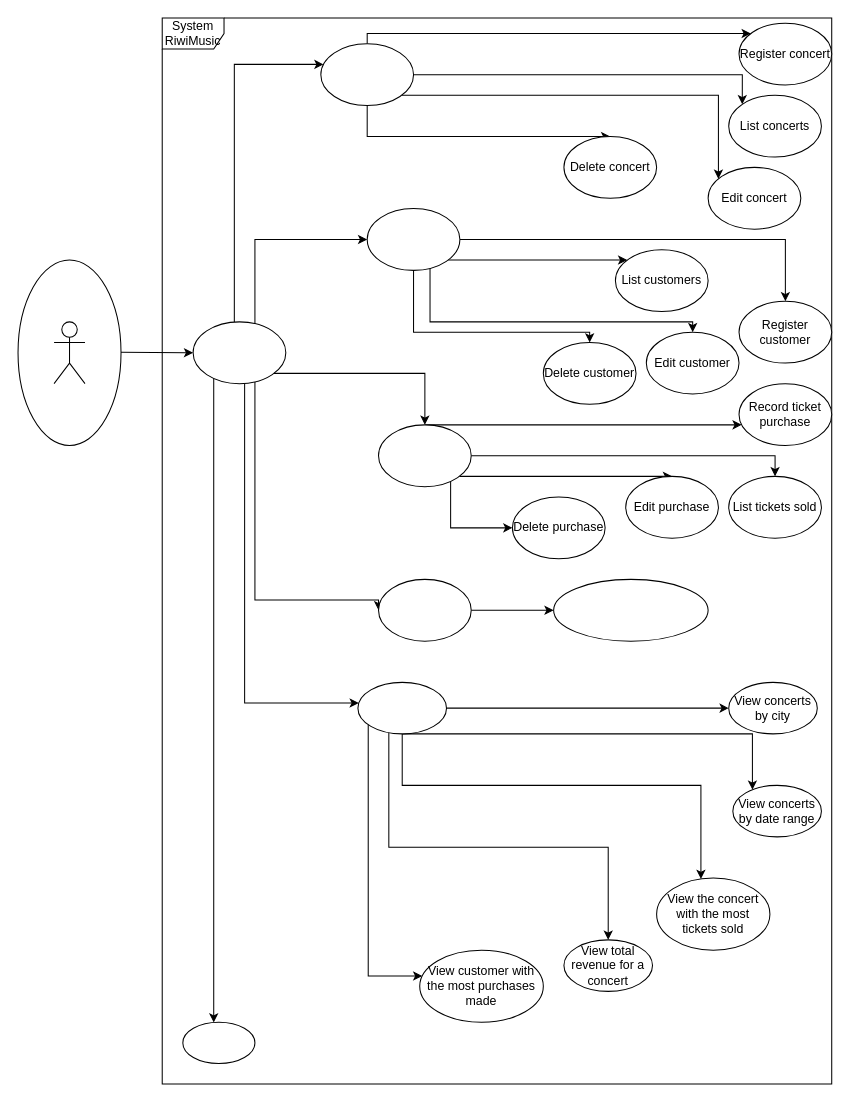
This 850x1102 diagram has some shape labels left out. Each missing label, with the centre of its shape:
Advanced queries: [402,707]
Concert Management: [367,74]
customer management: [413,239]
Go out: [218,1042]
Main menu: [239,352]
Purchase History: [424,609]
Show all purchases made by a specific: [630,609]
Ticket Management: [424,455]
User: [69,352]
